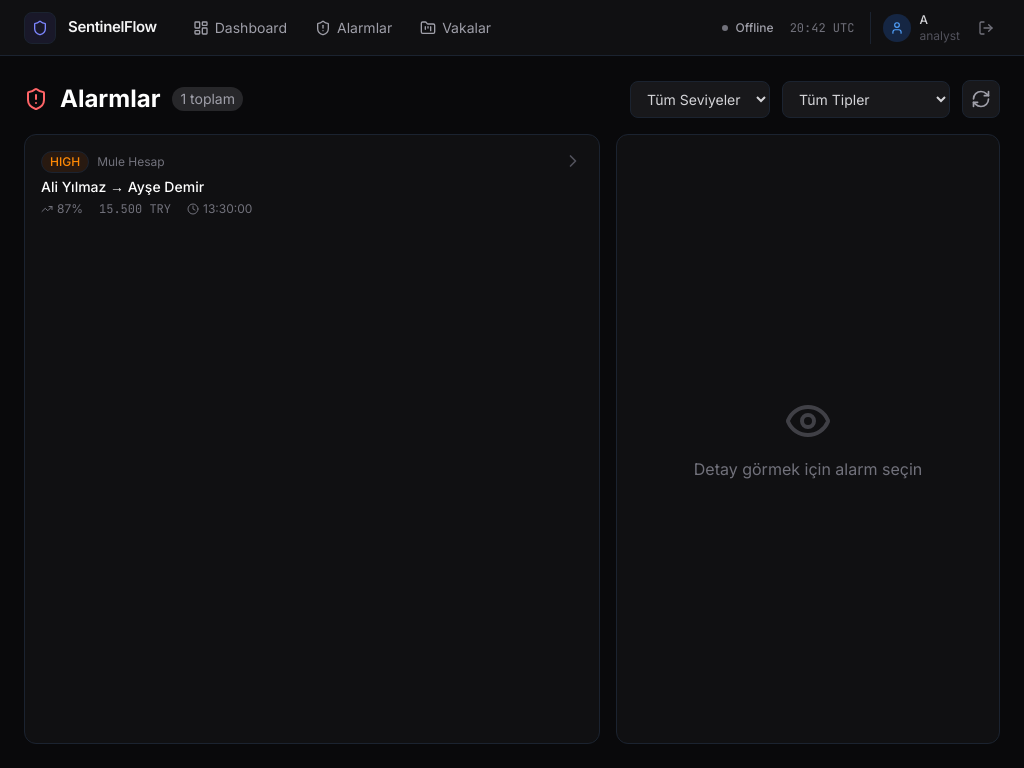
Alarmdan vaka akışı › {"name":"ApiError","status":409,"kind":"conflict","detail":{"code":"alert_dismissed","message":"dismissed"}} hatasında mesaj gösterir ve diyaloğu açık tutar
Click the text "Ali Yılmaz → Ayşe Demir" at (123,186), box [41, 178, 204, 195]
(page scrolled)
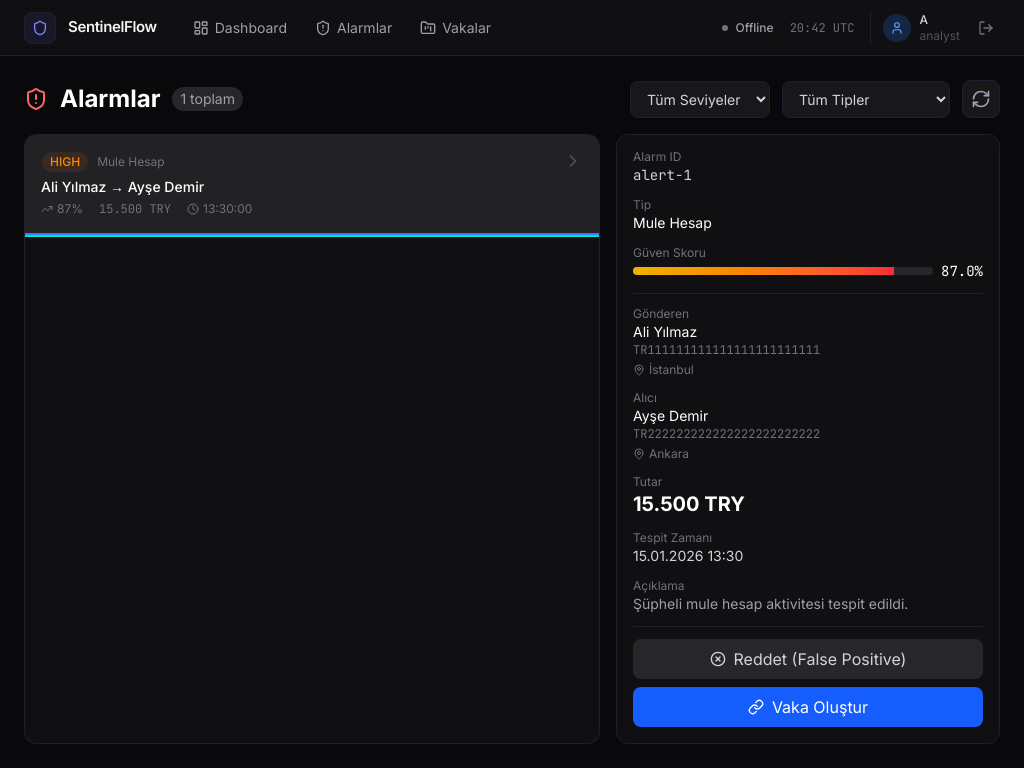
Click the button "Vaka Oluştur" at (808,707), box [633, 687, 983, 727]
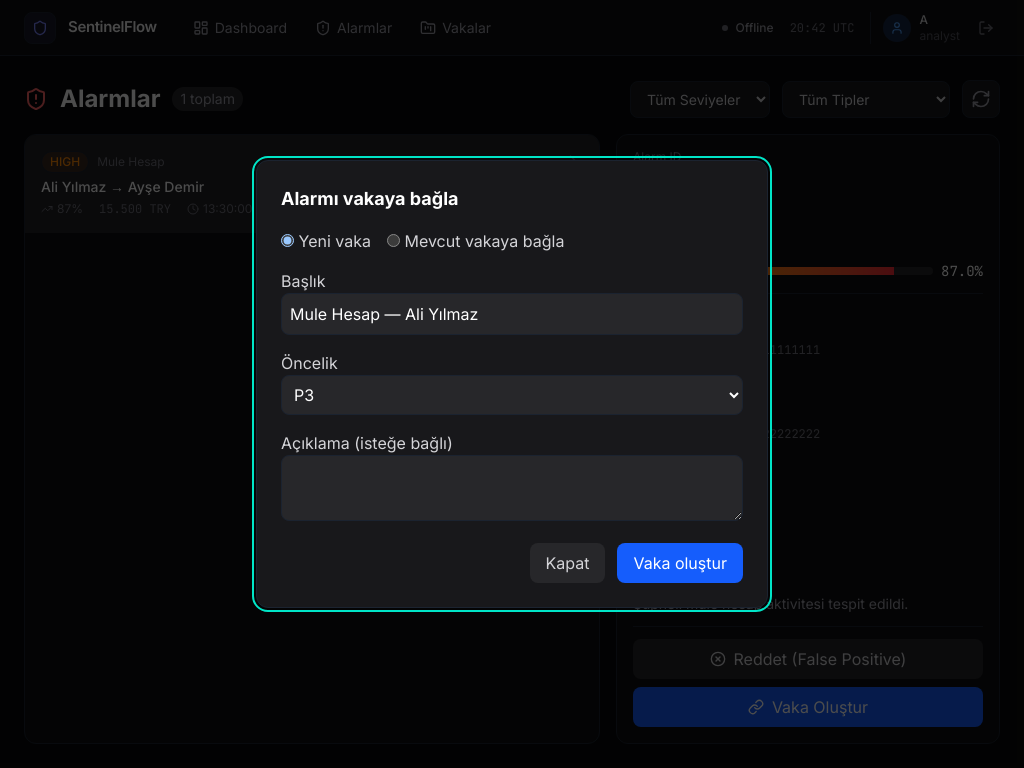
Click the button "Vaka oluştur" at (680,563), box [617, 543, 743, 583]
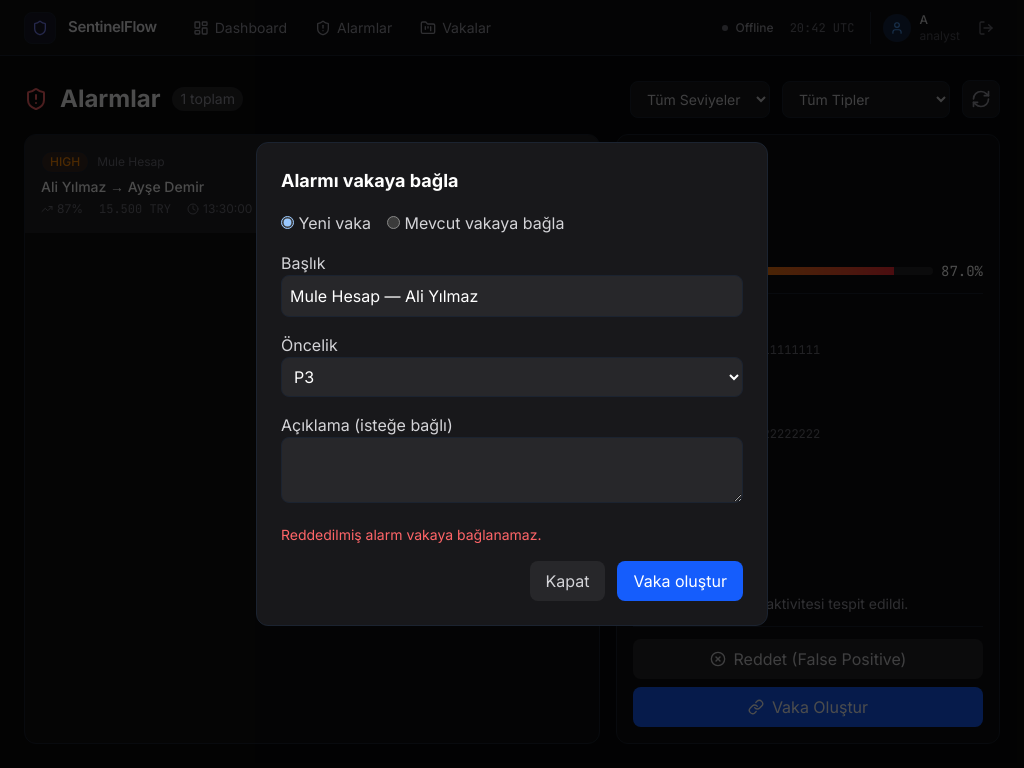
Result: the dialog is shown at [256, 142, 768, 626]
Result: the button "Vaka oluştur" is enabled at [617, 561, 743, 601]
Result: the message reads "Reddedilmiş alarm vakaya bağlanamaz." at [281, 526, 542, 543]
